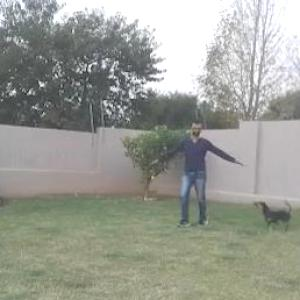land: (148, 114, 237, 220)
